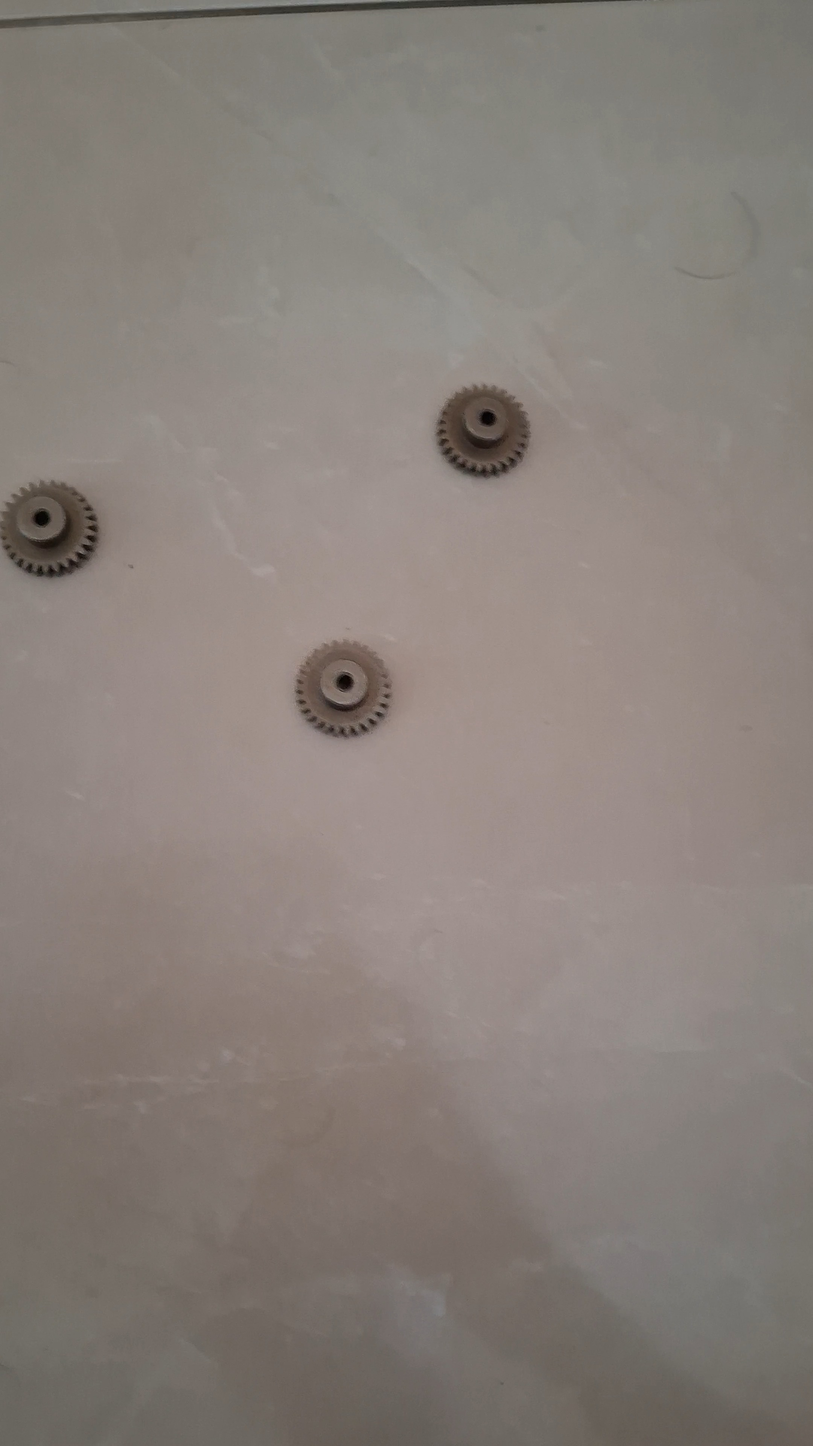spur gear: (295, 641, 391, 736), (0, 482, 98, 575), (436, 386, 529, 476)
